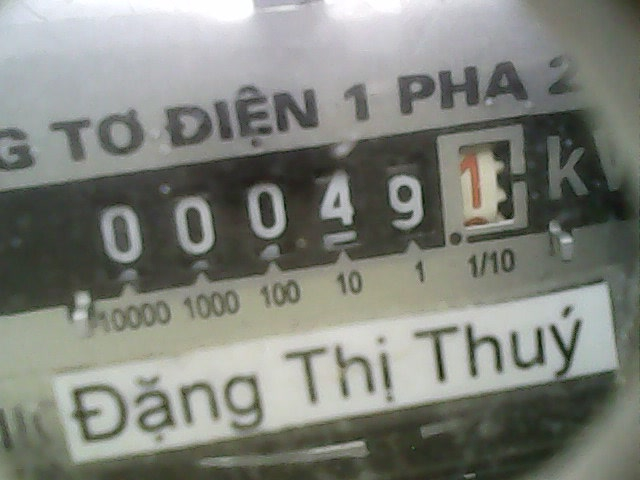phy_plate: (82, 114, 537, 277)
